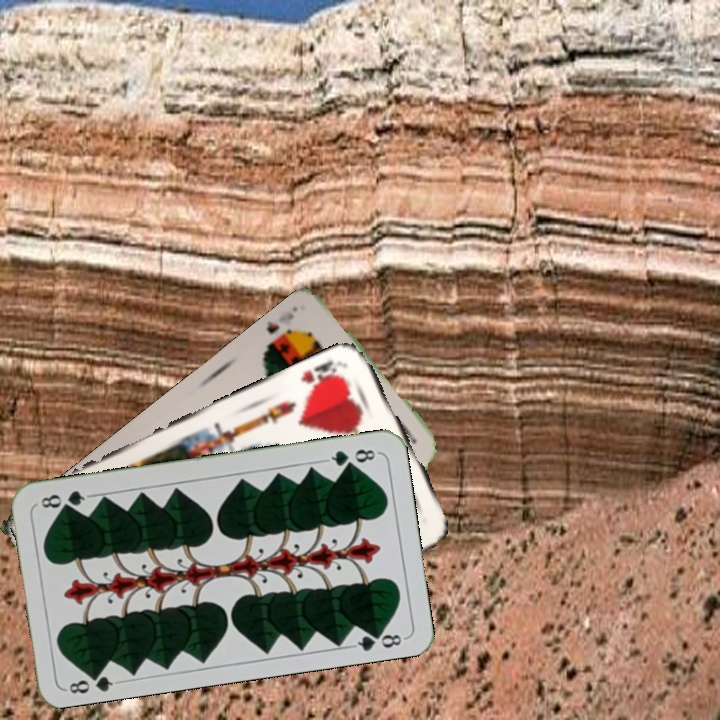G8: (62, 666, 121, 697), (322, 445, 381, 470)
HK: (295, 356, 348, 395)
SO: (262, 302, 301, 355)
